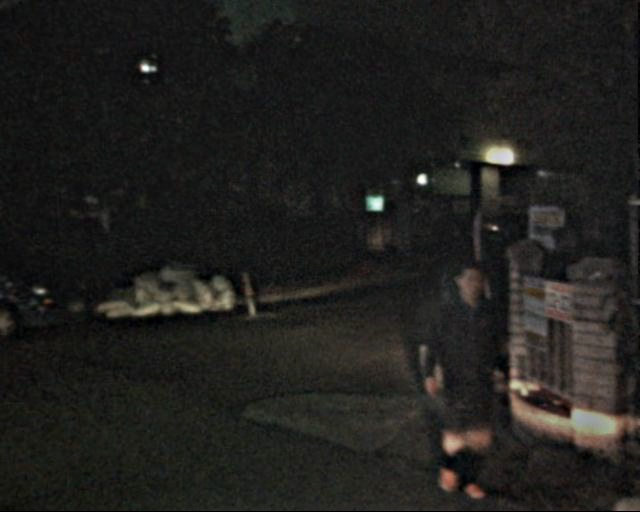person: (407, 256, 504, 486)
